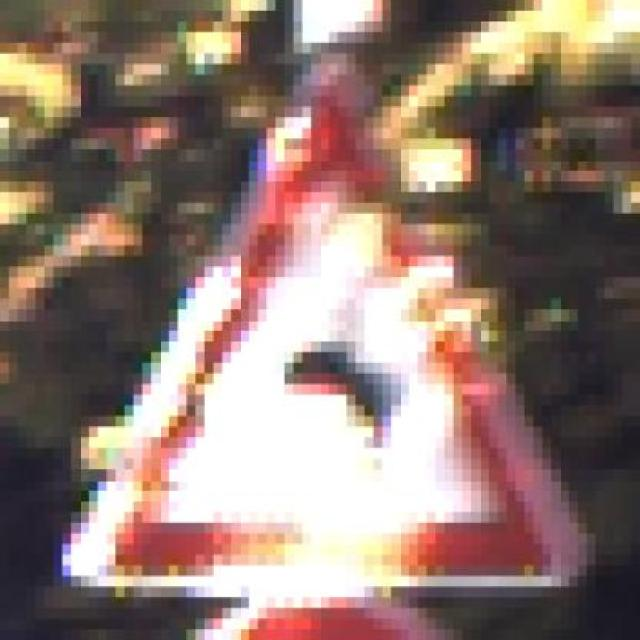Dangerous Left Curve Ahead: (62, 75, 596, 598)
